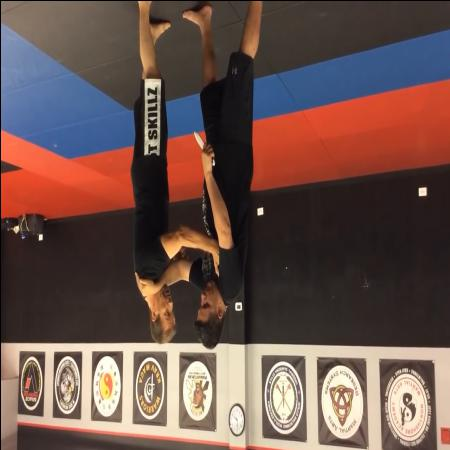long weapon: (192, 128, 216, 168)
